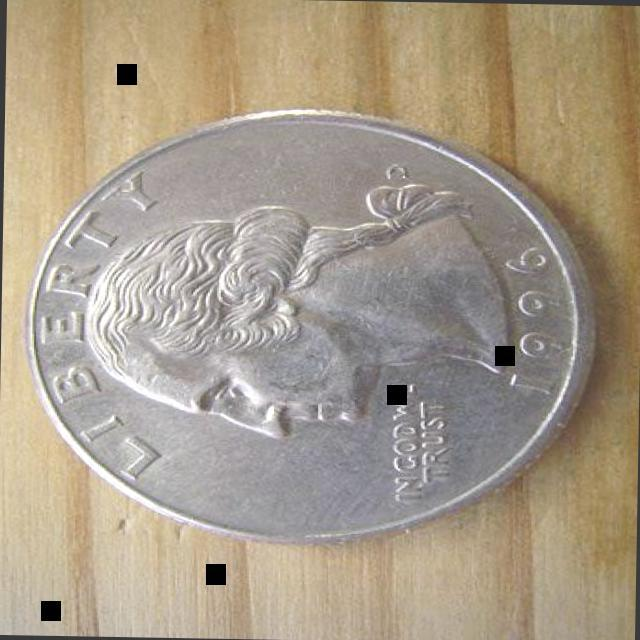Quarter: (16, 102, 607, 552)
